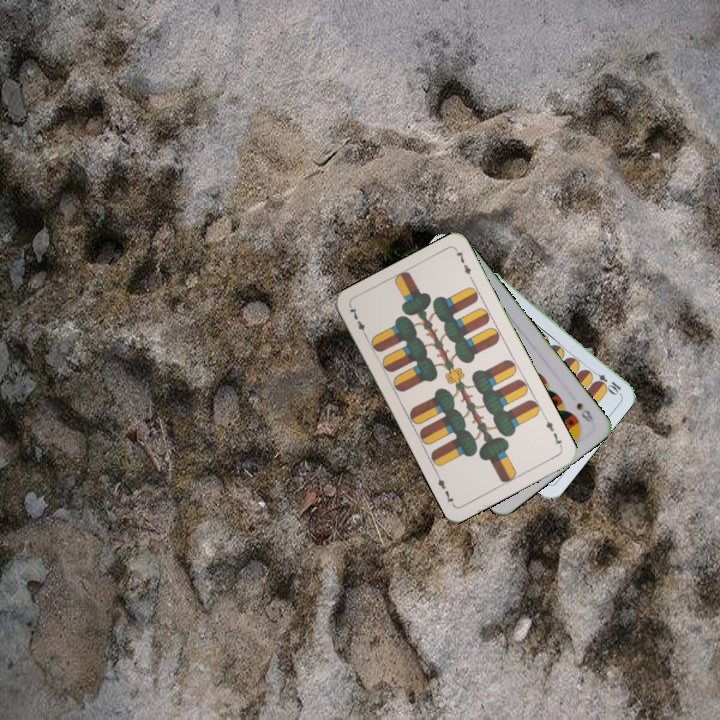E10: (587, 366, 624, 397)
E7: (345, 303, 370, 340), (541, 413, 565, 451)
S8: (573, 398, 598, 425)
